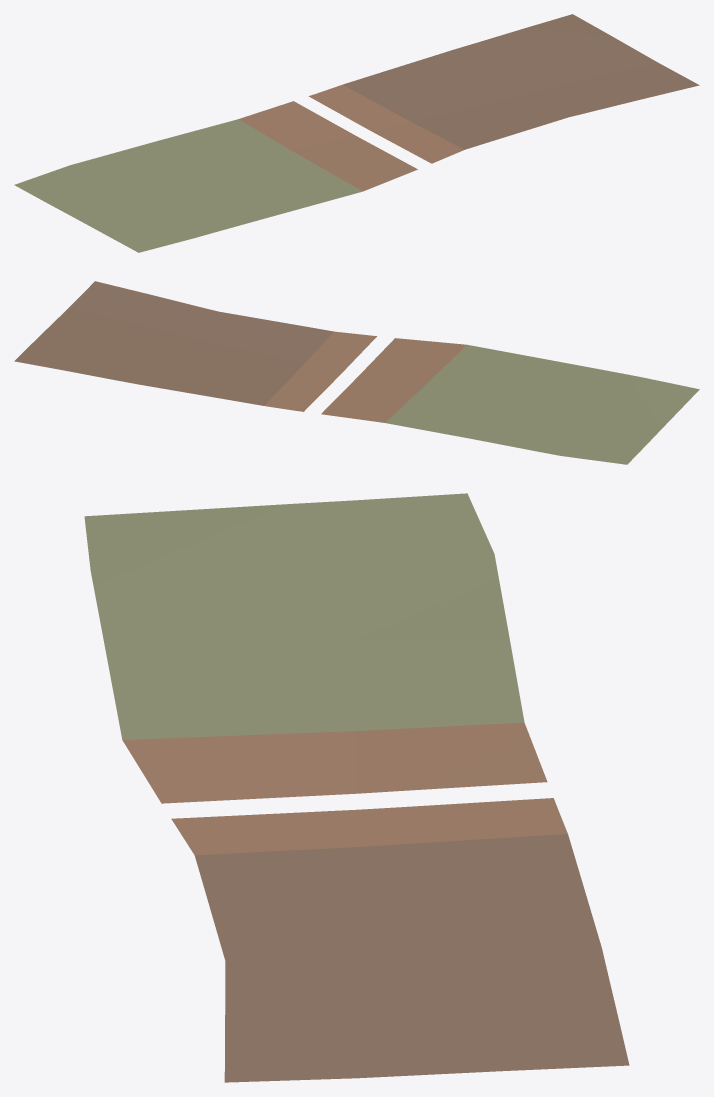
Rendered from farm_16_19_soil.glb.
The picture shows the model from 3 angles, top to bottom: view 1: azimuth 30°, elevation 25°; view 2: azimuth 150°, elevation 25°; view 3: azimuth 270°, elevation 25°; orthographic projection. The views are drawn at different scales.
Visible parts, largest first — view 1: geometry_0; view 2: geometry_0; view 3: geometry_0.
Boxes of the visible parts, <box> form: geometry_0: <box>14,14,699,252</box>; geometry_0: <box>14,281,699,464</box>; geometry_0: <box>84,493,629,1082</box>.
Size of the model in its own units: 287 by 3.05 by 114.
